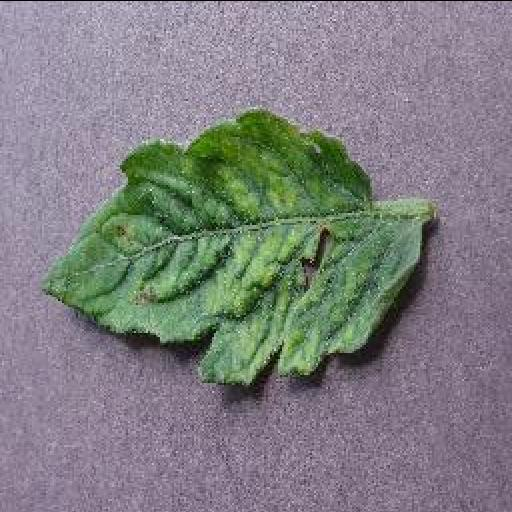Mosaic Virus: (33, 104, 427, 382)
